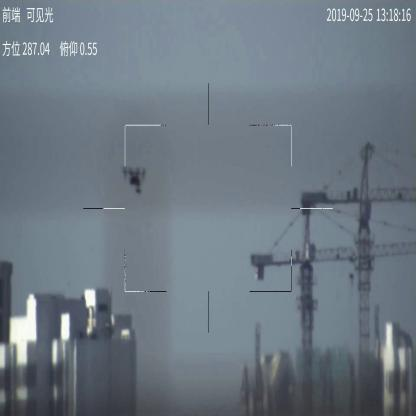uav: (124, 163, 148, 196)
